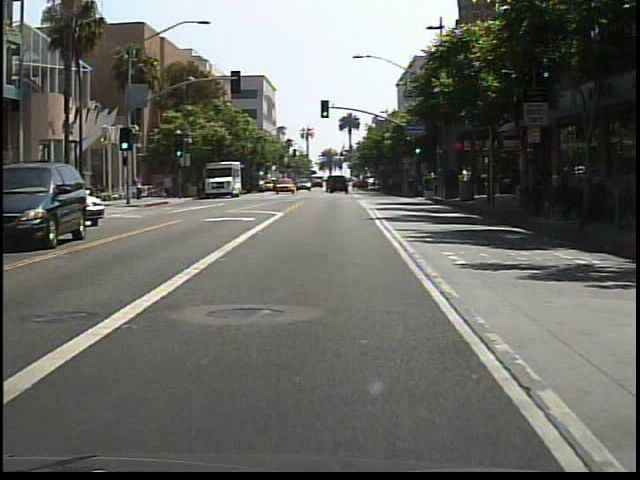person: (134, 171, 147, 204), (162, 172, 176, 199), (154, 174, 166, 198)
